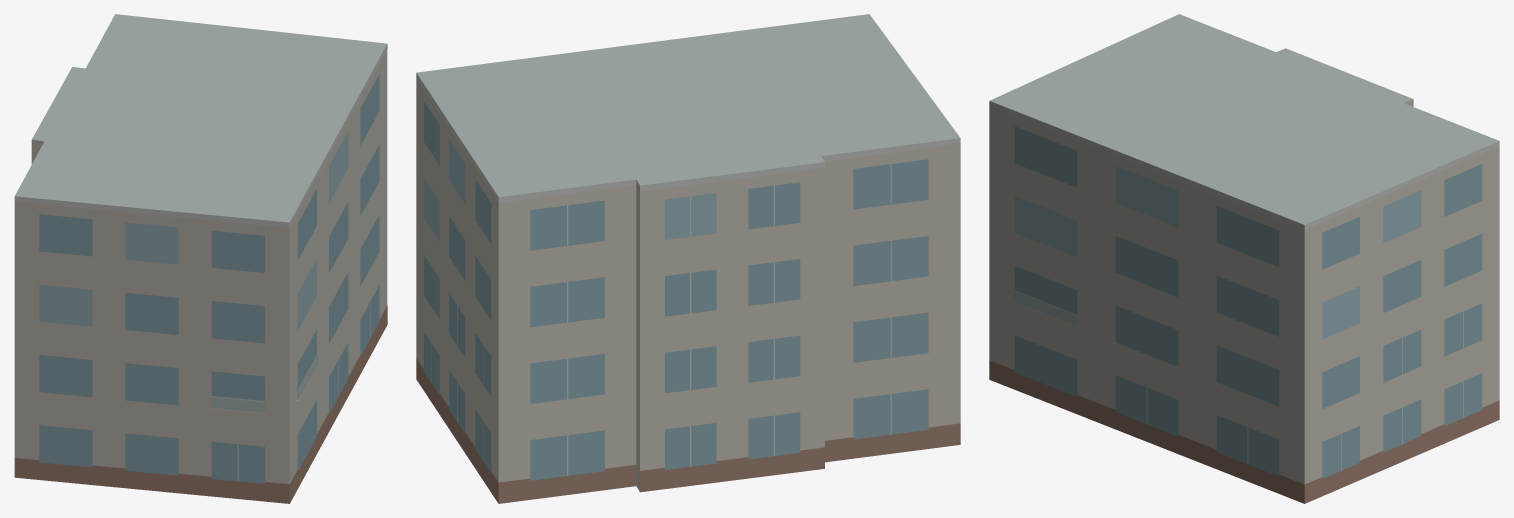
Rendered from survey-upis-32889549.glb.
3 views of the same model, side by side, from view 1: azimuth 30°, elevation 25°; view 2: azimuth 150°, elevation 25°; view 3: azimuth 270°, elevation 25° (orthographic). The views are drawn at different scales.
Visible parts, largest first — view 1: survey-upis-32889549.tmp; view 2: survey-upis-32889549.tmp; view 3: survey-upis-32889549.tmp.
Boxes of the visible parts, bbox=[...] form: survey-upis-32889549.tmp: bbox=[14, 14, 387, 503]; survey-upis-32889549.tmp: bbox=[416, 14, 960, 503]; survey-upis-32889549.tmp: bbox=[989, 14, 1499, 503].
Size of the model in its own units: 20.77 by 12.8 by 21.23.
